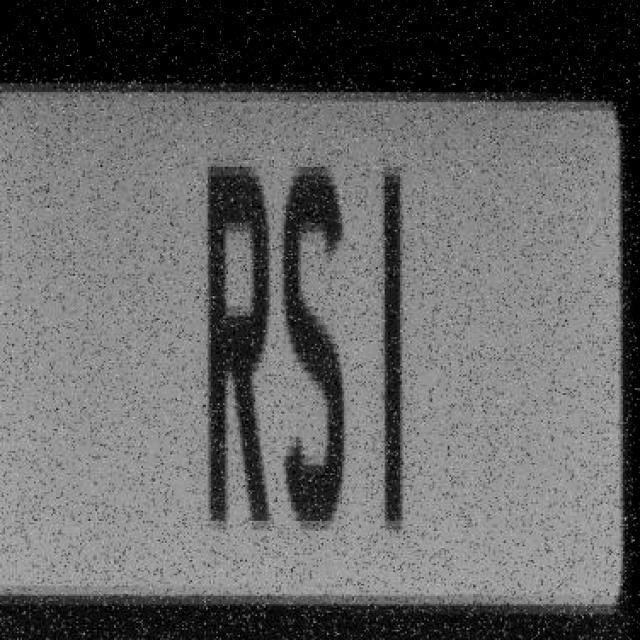licenseplate: (0, 49, 640, 640)
